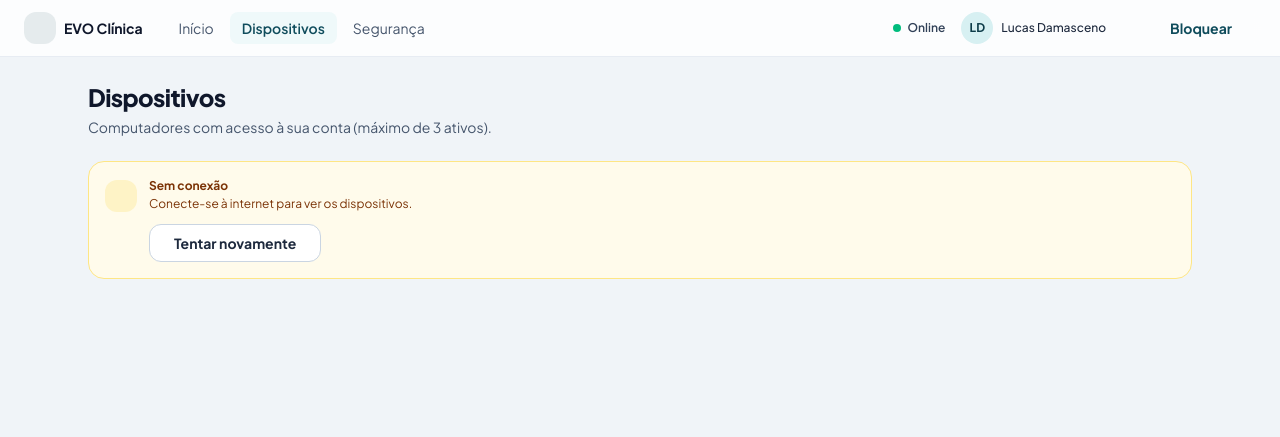
Test: DispositivosTela › SEM_CONEXAO mostra o estado offline com "Tentar novamente"
Check: the text "Conecte-se à internet para ver os dispositivos." is shown, box top-left (149, 196), bottom-right (412, 211)
Step 1. Click the button "Tentar novamente" → (235, 243), box top-left (149, 224), bottom-right (321, 262)
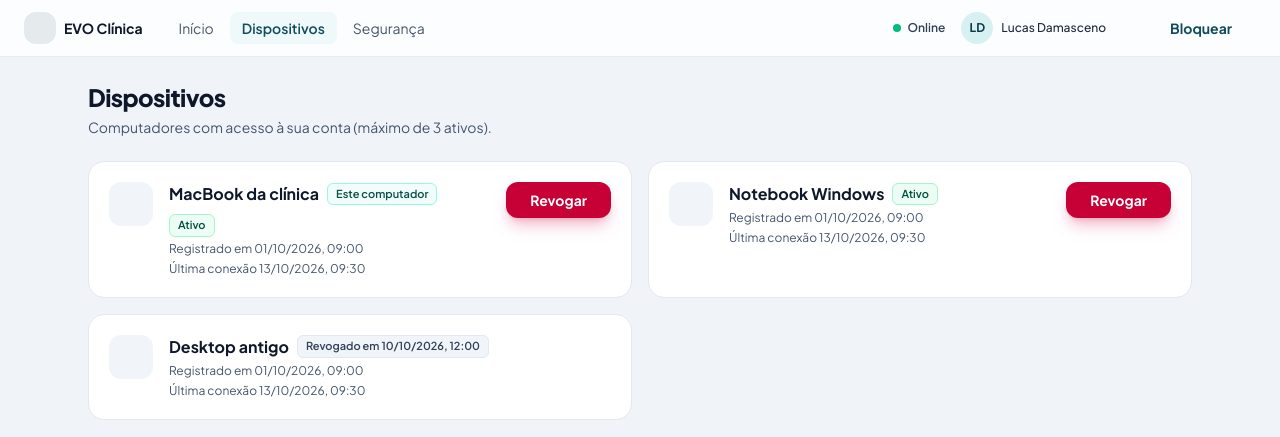
Check: the text "Notebook Windows" is shown, box top-left (729, 182), bottom-right (884, 206)
